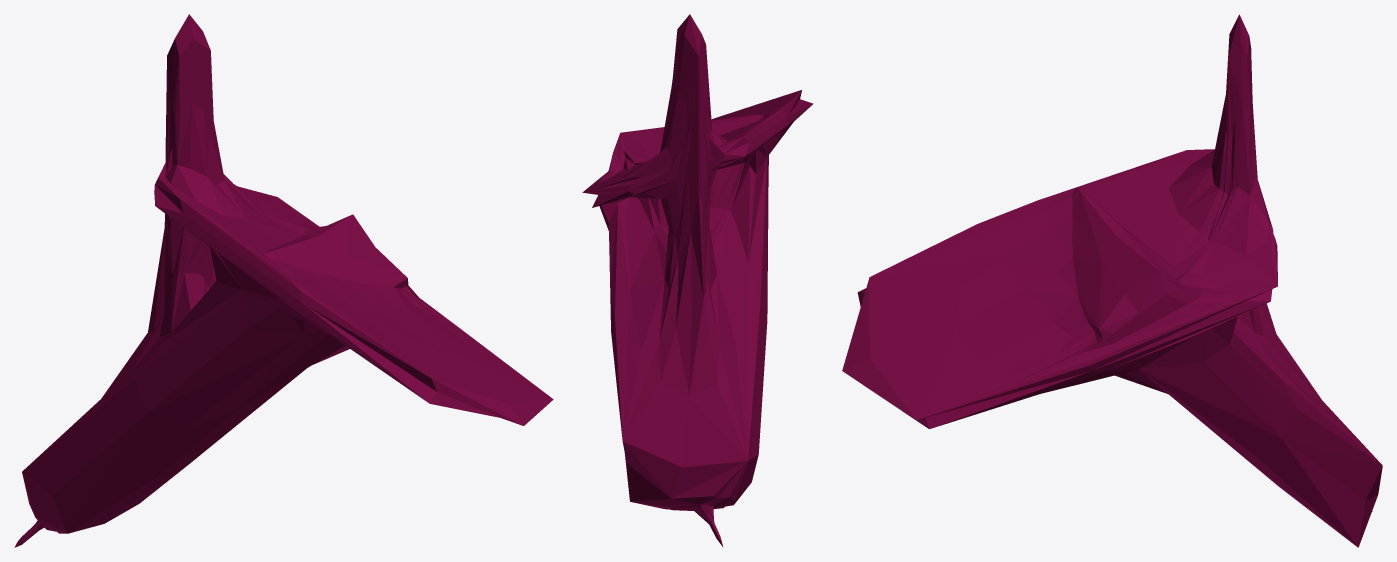
The picture shows the model from 3 angles, left to right: view 1: azimuth 30°, elevation 25°; view 2: azimuth 150°, elevation 25°; view 3: azimuth 270°, elevation 25°; orthographic projection. The views are drawn at different scales.
Parts seen in each view (by area): view 1: 648_Cube.2605; view 2: 648_Cube.2605; view 3: 648_Cube.2605.
Part boxes in pixels (x1,y1,x2,y2): 648_Cube.2605: (14, 14, 553, 547); 648_Cube.2605: (582, 14, 813, 547); 648_Cube.2605: (842, 14, 1382, 547).
Size of the model in its own units: 9.57 by 15.99 by 14.26.
